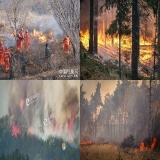fire: (98, 22, 132, 60), (29, 28, 55, 44), (140, 36, 152, 63), (10, 108, 20, 138), (67, 116, 76, 145), (80, 25, 90, 51), (52, 122, 60, 137), (80, 139, 93, 147), (27, 128, 37, 138), (151, 136, 157, 152), (139, 143, 150, 151), (10, 31, 17, 42), (0, 34, 6, 44)
